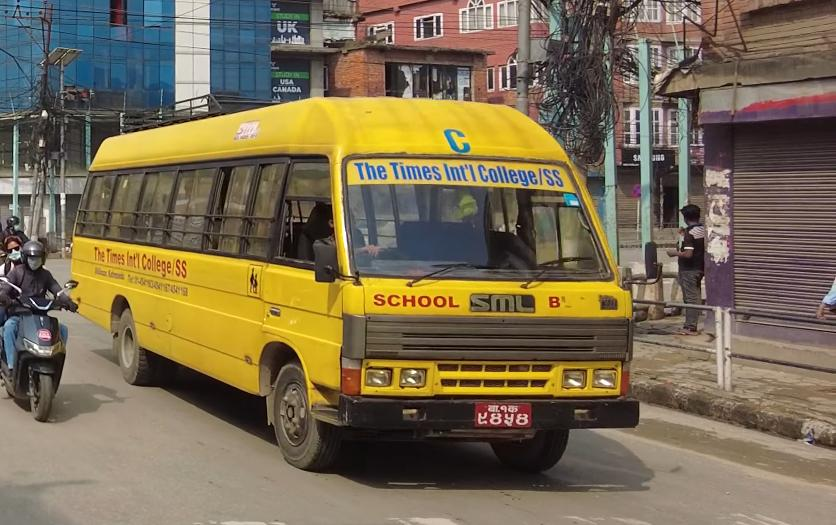school_bus: (66, 87, 644, 478)
scooter: (0, 274, 84, 428)
